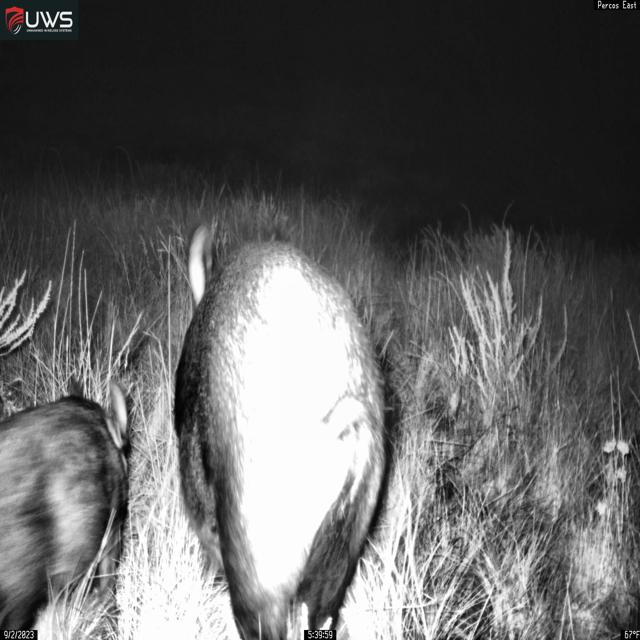pig: (173, 222, 388, 640)
